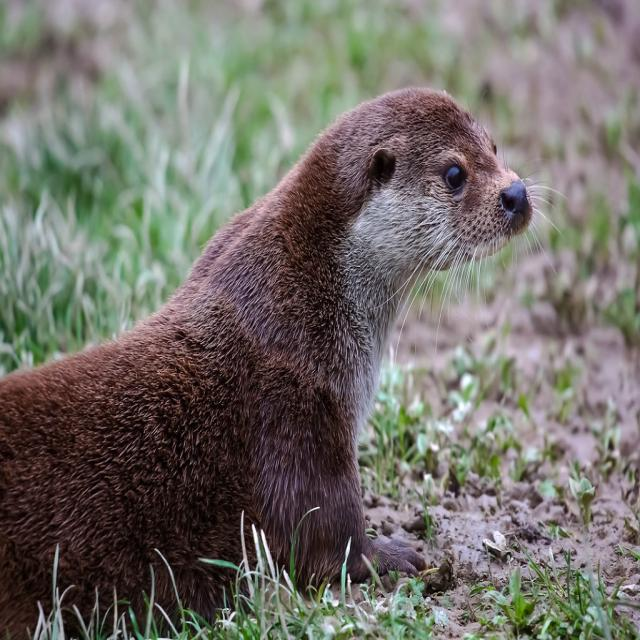otter: (1, 89, 531, 589)
